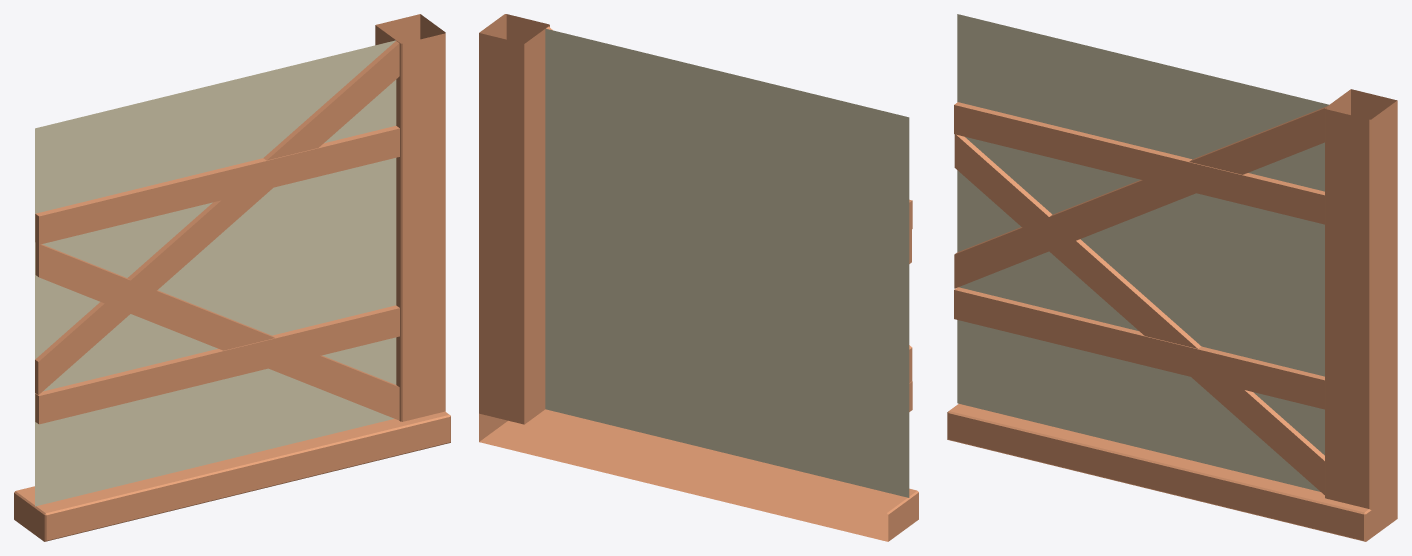
File: Wall5.fbx
The picture shows the model from 3 angles, left to right: view 1: azimuth 30°, elevation 25°; view 2: azimuth 150°, elevation 25°; view 3: azimuth 330°, elevation 25°; orthographic projection. The views are drawn at different scales.
Visible parts, largest first — view 1: Wall5_low, Wall5_plank2_low, Wall5_plank1_low; view 2: Wall5_low, Wall5_plank1_low; view 3: Wall5_low, Wall5_plank2_low, Wall5_plank1_low.
Boxes of the visible parts, bbox=[...] form: Wall5_low: bbox=[35, 40, 396, 506]; Wall5_plank2_low: bbox=[35, 41, 399, 424]; Wall5_plank1_low: bbox=[14, 14, 450, 541]; Wall5_low: bbox=[545, 28, 909, 497]; Wall5_plank1_low: bbox=[479, 14, 918, 541]; Wall5_low: bbox=[957, 14, 1328, 491]; Wall5_plank2_low: bbox=[954, 102, 1329, 494]; Wall5_plank1_low: bbox=[947, 89, 1397, 541].
Bounding box in the file's own units: 450 × 430 × 60.
